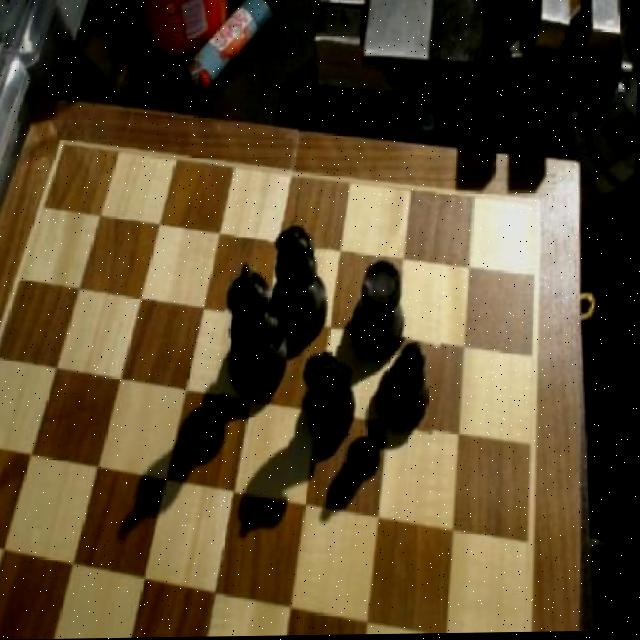bishop: (381, 336, 443, 442)
black-bishop: (225, 261, 302, 401)
black-king: (304, 348, 360, 436)
black-pawn: (270, 222, 333, 345)
black-queen: (351, 260, 409, 356)
